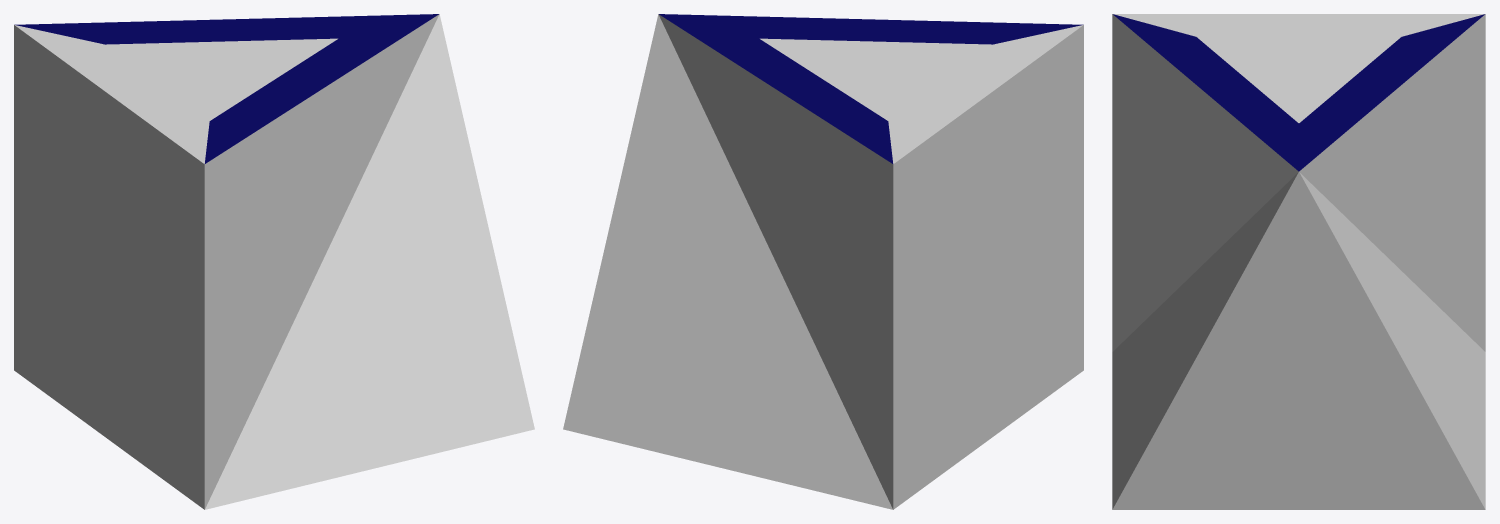
File: enemyBasicArrow.glb
3 renders of one model, left to right at view 1: azimuth 30°, elevation 25°; view 2: azimuth 150°, elevation 25°; view 3: azimuth 270°, elevation 25°, orthographic. The views are drawn at different scales.
Parts seen in each view (by area): view 1: Cube; view 2: Cube; view 3: Cube.
Boxes of the visible parts, box(x1,y1,x2,y2) form: Cube: box(14, 14, 534, 509); Cube: box(563, 14, 1083, 509); Cube: box(1112, 14, 1485, 509).
Bounding box in the file's own units: 2 × 2 × 2.
